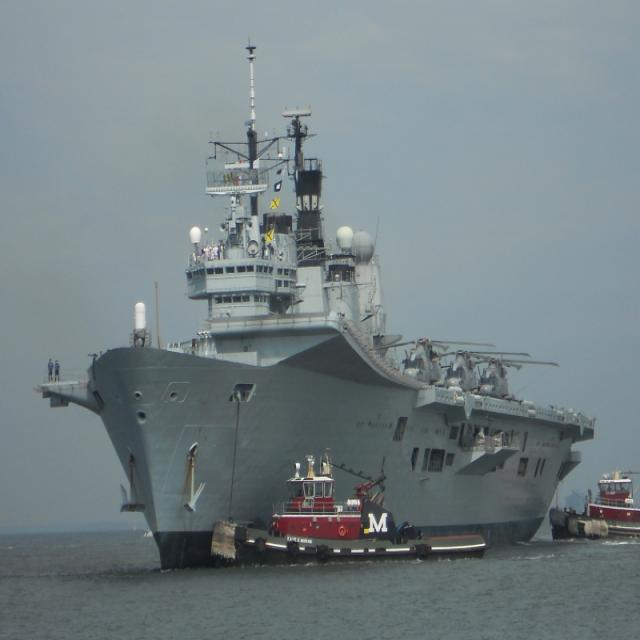Portanaves: (34, 34, 601, 577)
